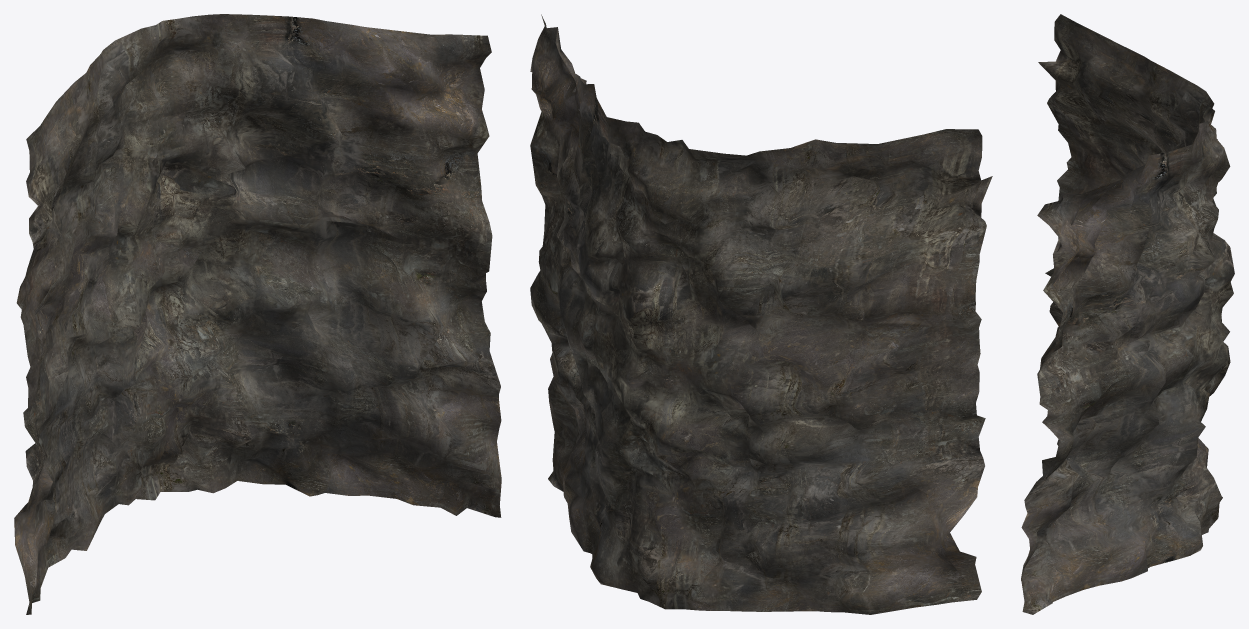
The model's file is Wall_5.fbx.
3 views of the same model, side by side, from view 1: azimuth 30°, elevation 25°; view 2: azimuth 150°, elevation 25°; view 3: azimuth 270°, elevation 25° (orthographic). The views are drawn at different scales.
Visible parts, largest first — view 1: Wall_5; view 2: Wall_5; view 3: Wall_5.
Part boxes in pixels (x1,y1,x2,y2): Wall_5: (14, 14, 501, 614); Wall_5: (530, 14, 992, 614); Wall_5: (1021, 14, 1234, 614).
Bounding box in the file's own units: 404 × 404 × 189.
